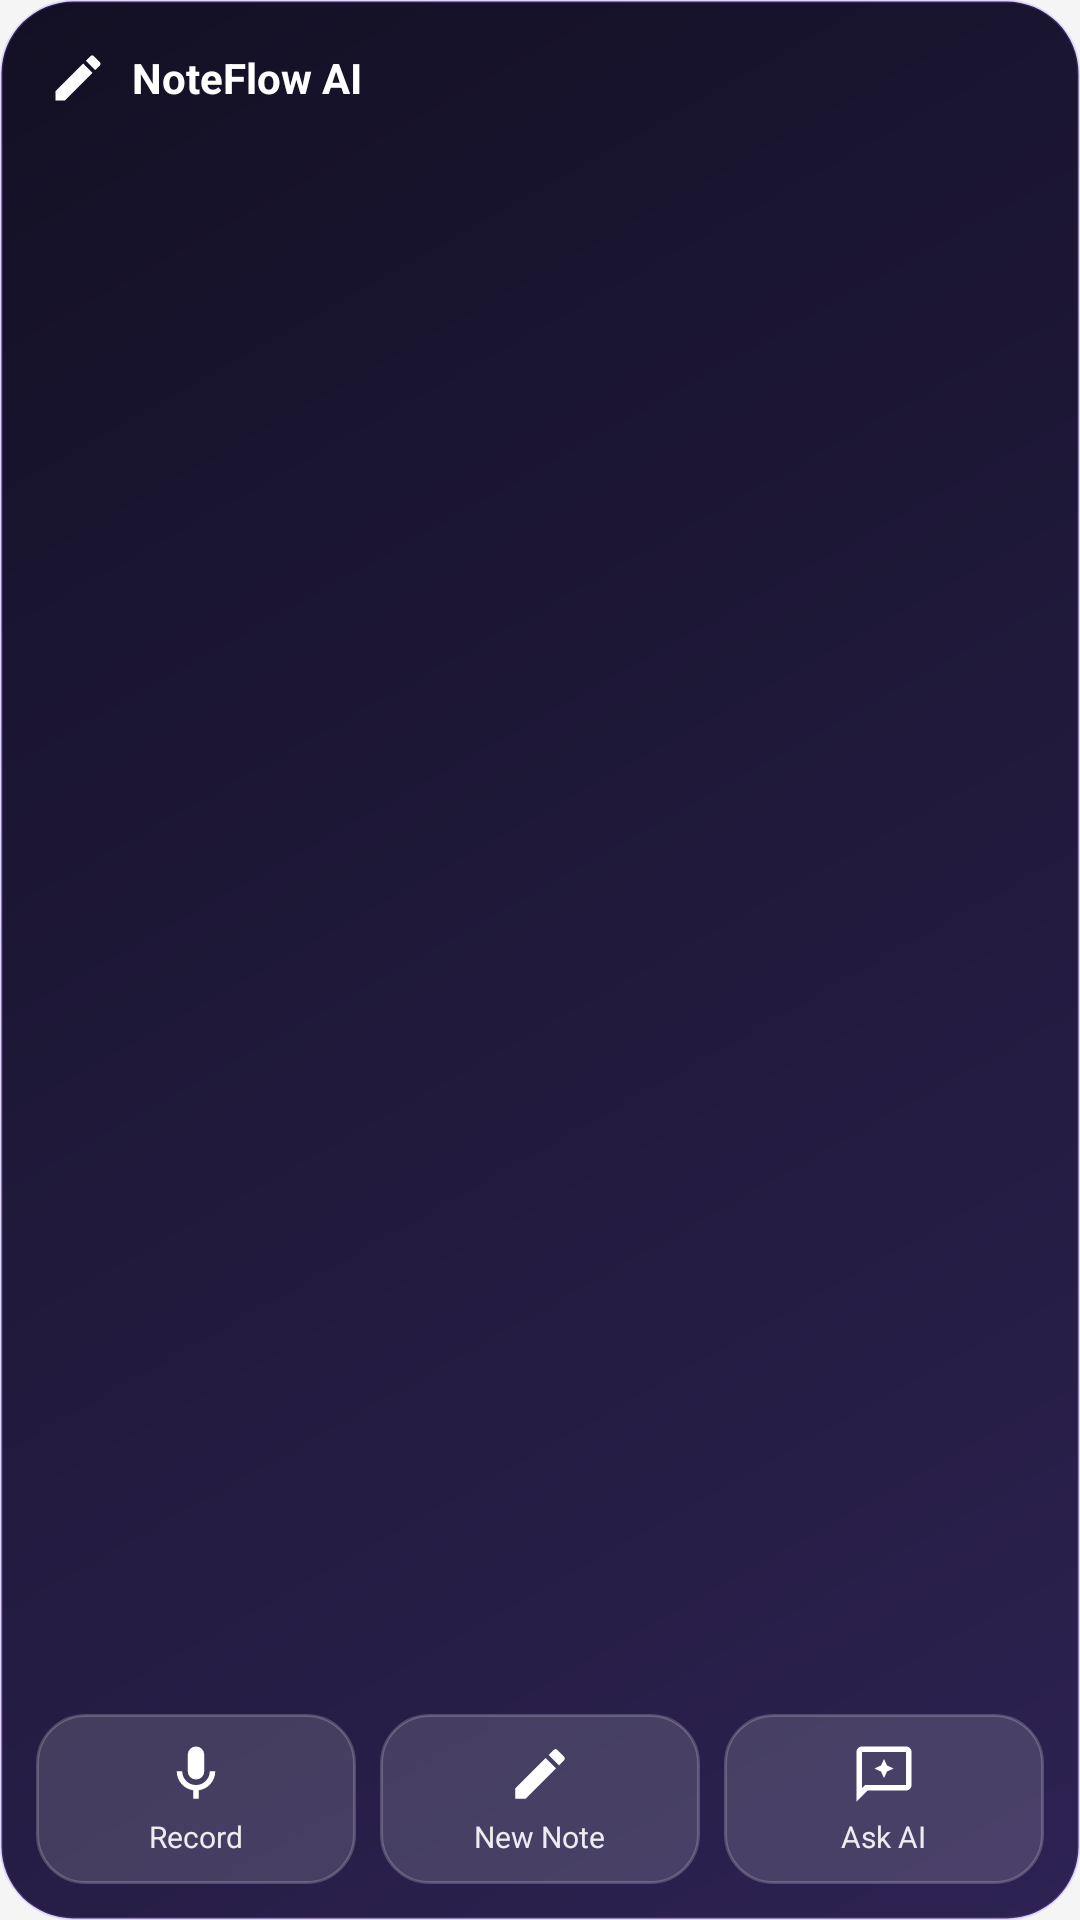

Screen size 1080x1920. Icon name, then its center in pixels as (x=x, y=y):
widget chat: (x=884, y=1774)
widget mic: (x=196, y=1772)
